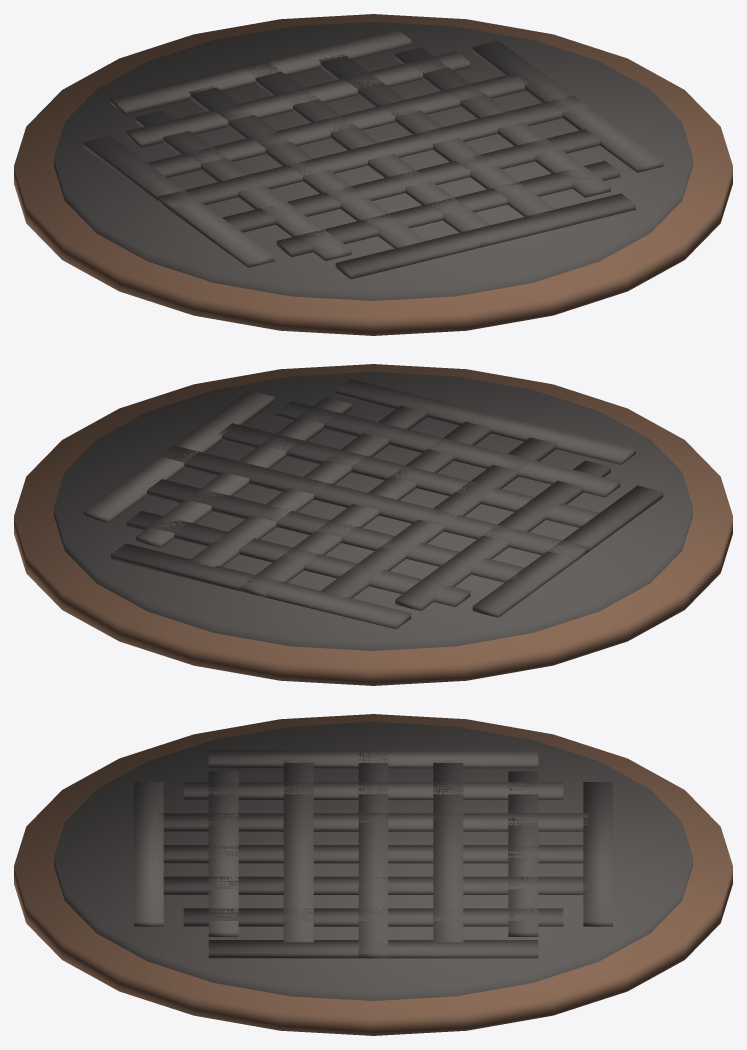
The model's file is manhole.glb.
The picture shows the model from 3 angles, top to bottom: view 1: azimuth 30°, elevation 25°; view 2: azimuth 150°, elevation 25°; view 3: azimuth 270°, elevation 25°; orthographic projection.
Parts seen in each view (by area): view 1: manhole; view 2: manhole; view 3: manhole.
Boxes of the visible parts, x1,y1,x2,y2 form: manhole: (14,14,732,335); manhole: (14,364,732,685); manhole: (14,714,732,1035).
Size of the model in its own units: 0.72 by 0.036 by 0.72.
